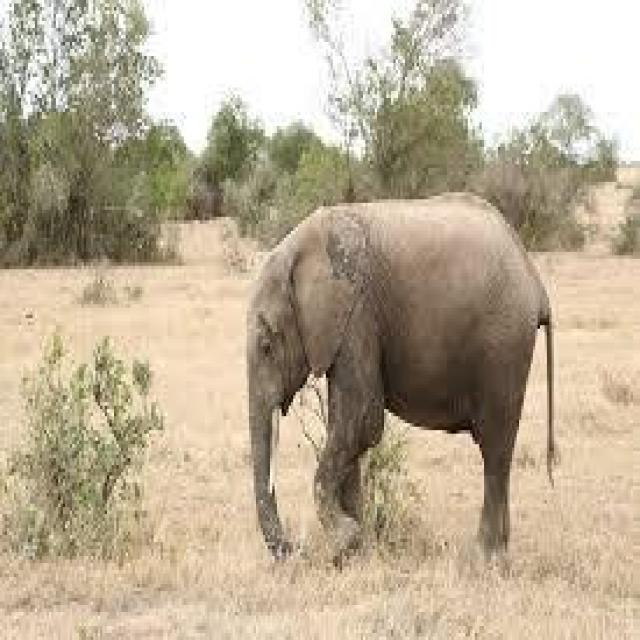Elephant: (247, 192, 561, 570)
